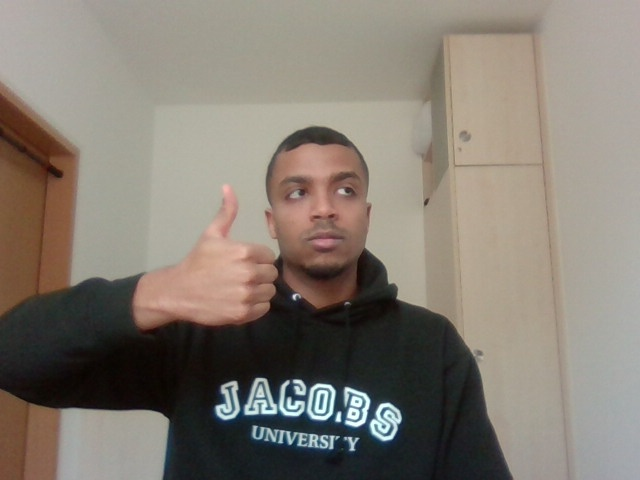perfect: (145, 162, 287, 364)
